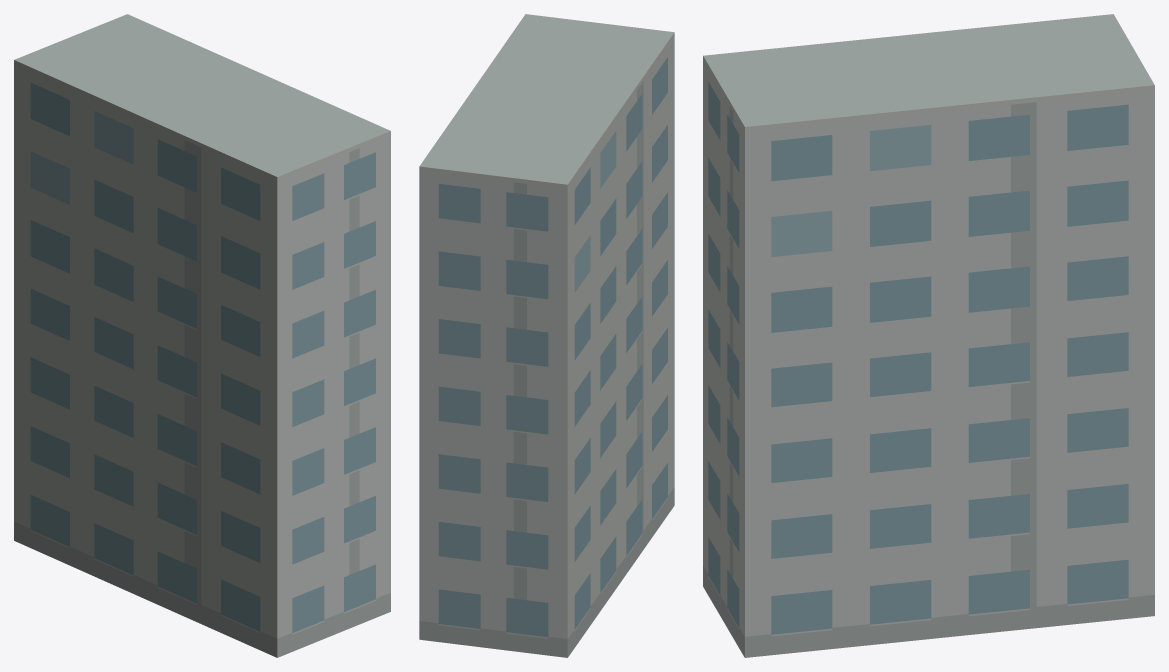
The model's file is survey-upis-32557646.glb.
3 renders of one model, left to right at view 1: azimuth 30°, elevation 25°; view 2: azimuth 150°, elevation 25°; view 3: azimuth 270°, elevation 25°, orthographic. The views are drawn at different scales.
Parts seen in each view (by area): view 1: survey-upis-32557646.tmp; view 2: survey-upis-32557646.tmp; view 3: survey-upis-32557646.tmp.
Part boxes in pixels (box(x1,y1,x2,y2)): survey-upis-32557646.tmp: box(14, 14, 390, 657); survey-upis-32557646.tmp: box(419, 14, 674, 657); survey-upis-32557646.tmp: box(703, 14, 1154, 657).
Size of the model in its own units: 12.2 by 26.7 by 20.6.
